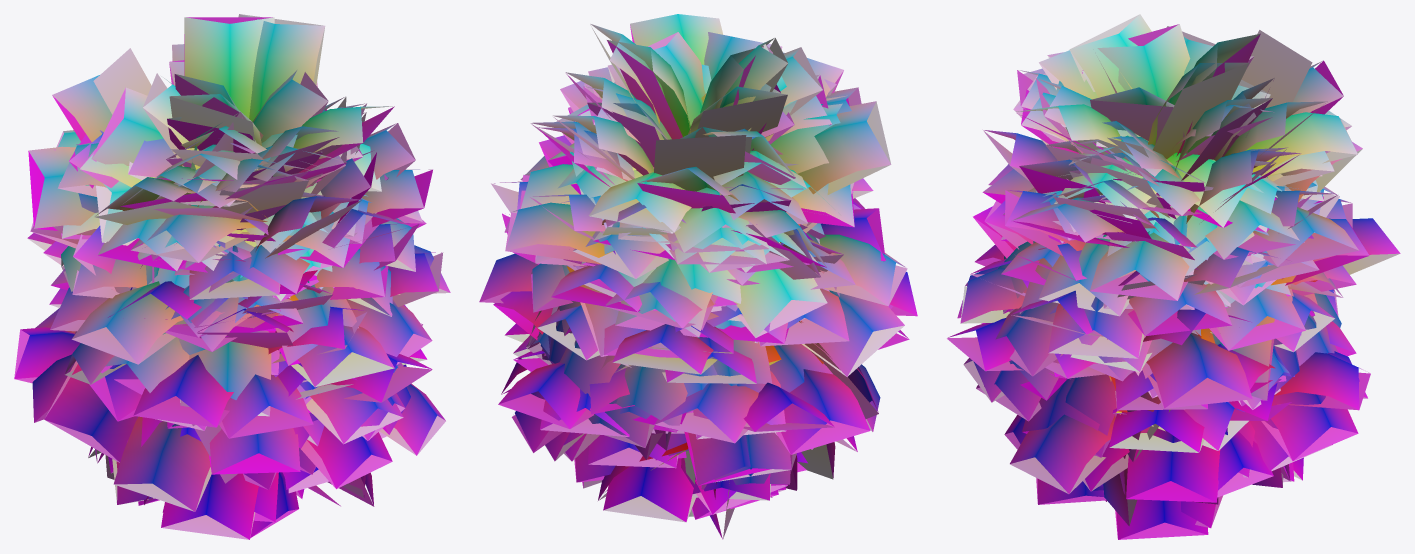
The model's file is elm_01_4.fbx.
The picture shows the model from 3 angles, left to right: view 1: azimuth 30°, elevation 25°; view 2: azimuth 150°, elevation 25°; view 3: azimuth 270°, elevation 25°; orthographic projection.
Visible parts, largest first — view 1: elm_rought_leaves_01_4_lod_0, elm_rought_leaves_01_4_shadow; view 2: elm_rought_leaves_01_4_lod_0, elm_rought_leaves_01_4_shadow; view 3: elm_rought_leaves_01_4_lod_0, elm_rought_leaves_01_4_shadow.
Part boxes in pixels (x1,y1,x2,y2): elm_rought_leaves_01_4_lod_0: (14,14,450,539); elm_rought_leaves_01_4_shadow: (14,14,449,539); elm_rought_leaves_01_4_lod_0: (479,14,917,539); elm_rought_leaves_01_4_shadow: (479,25,917,538); elm_rought_leaves_01_4_lod_0: (948,14,1400,539); elm_rought_leaves_01_4_shadow: (947,14,1399,539).
Size of what is drawn, in the model's own units: 7.43 by 8.93 by 7.62.
